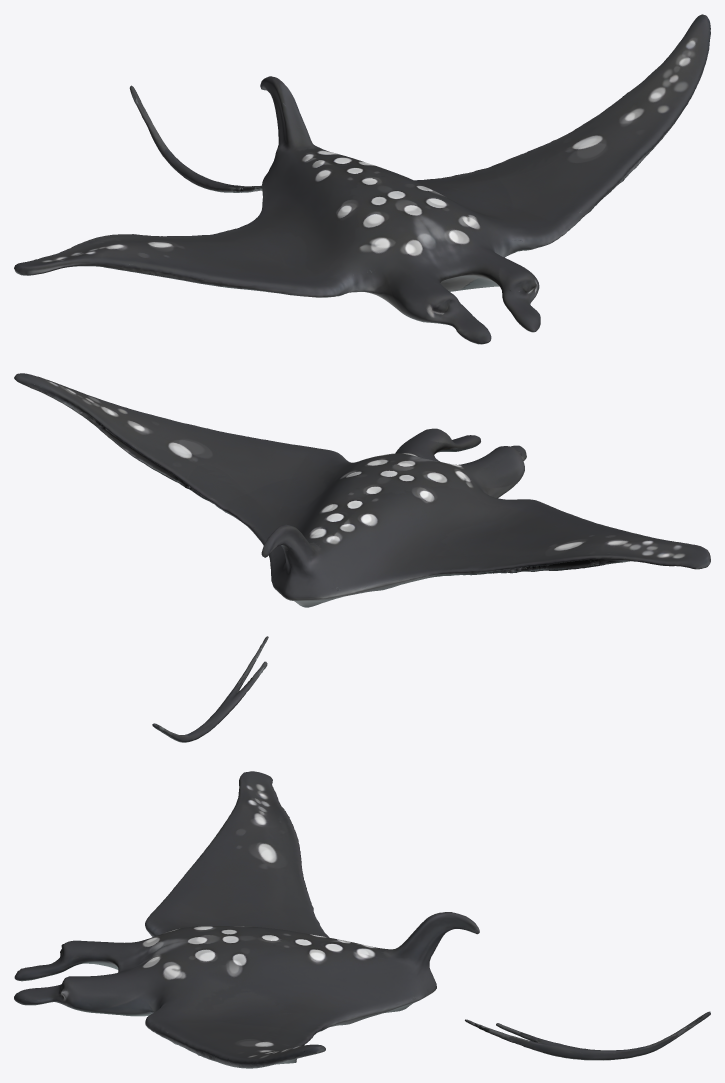
Rendered from manta.glb.
3 renders of one model, top to bottom at view 1: azimuth 30°, elevation 25°; view 2: azimuth 150°, elevation 25°; view 3: azimuth 270°, elevation 25°, orthographic. The views are drawn at different scales.
Size of the model in its own units: 1.91 by 0.4804 by 1.74.
Materials: 1 (1 with a texture image).
